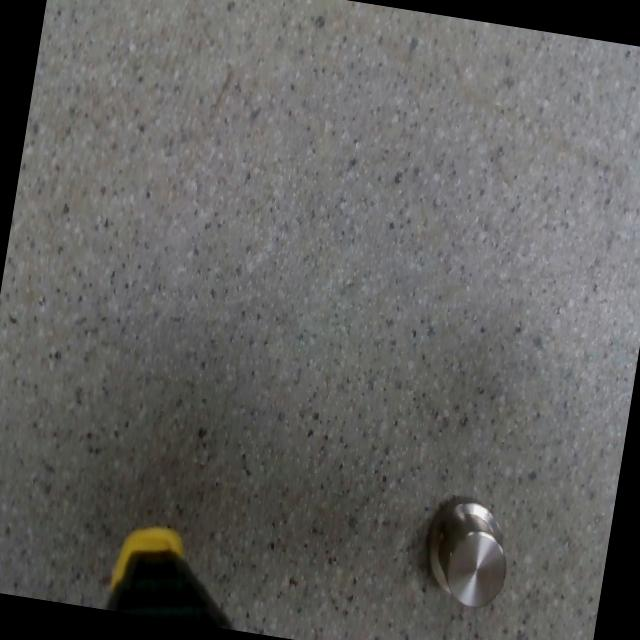sensor: (419, 493, 517, 612)
